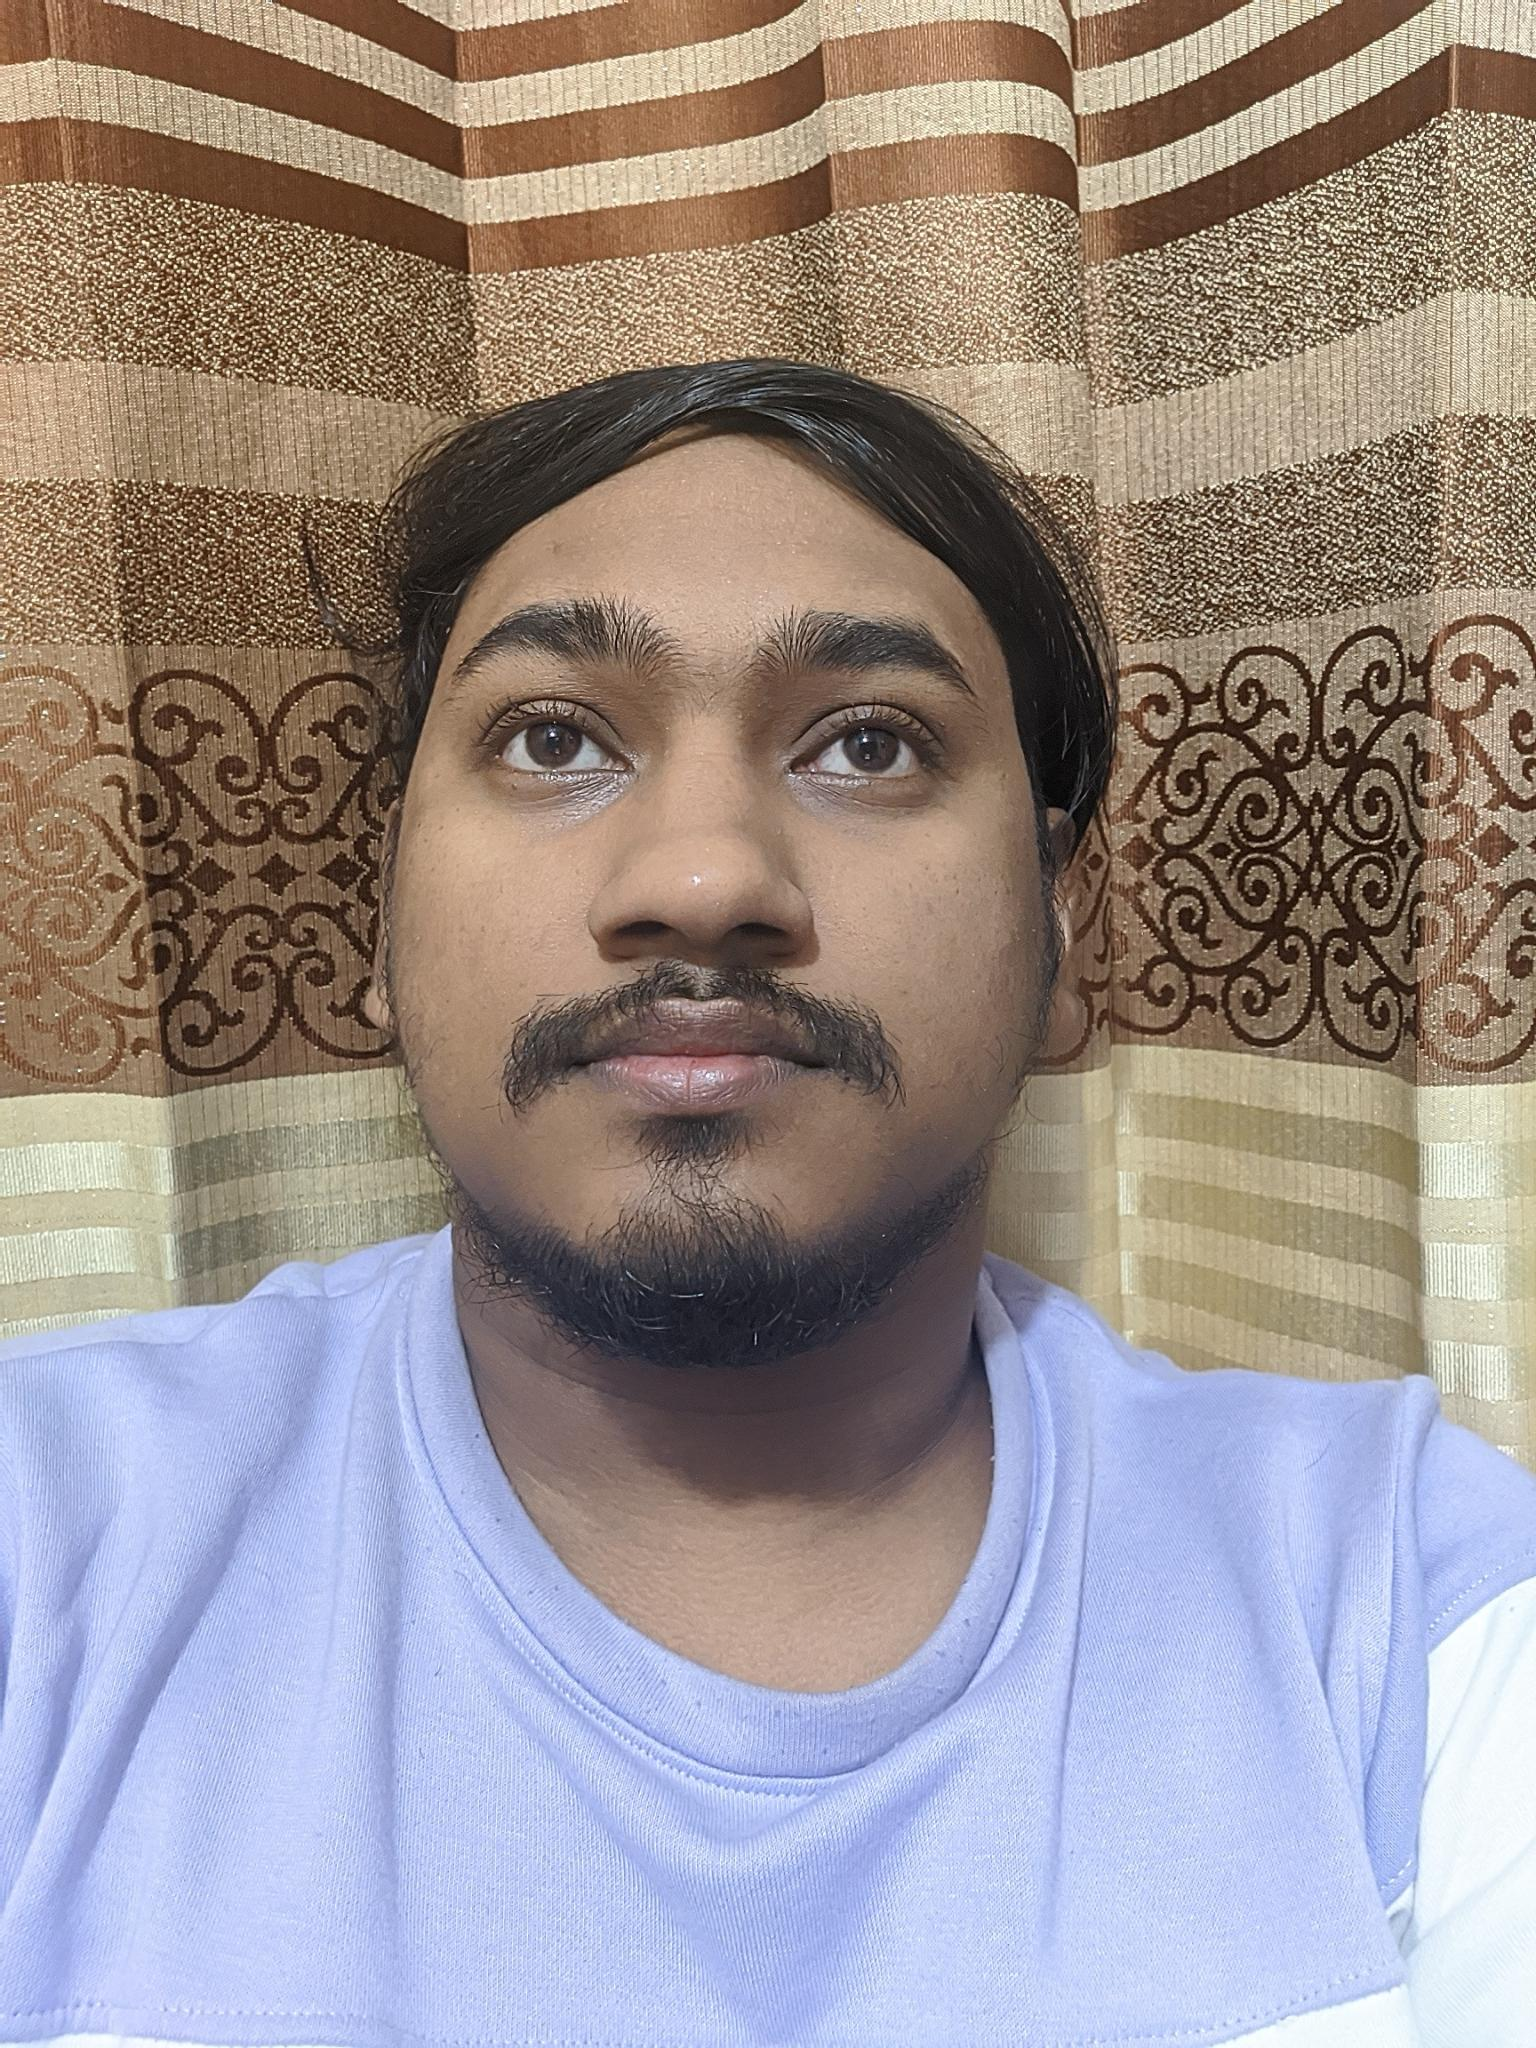Neutral: (424, 529, 1020, 1332)
